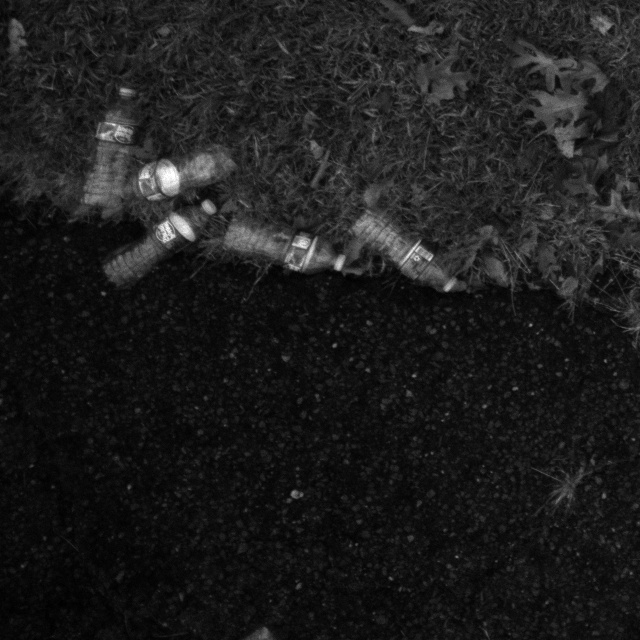bottle: (350, 193, 464, 301), (73, 84, 145, 226), (218, 207, 342, 282), (119, 141, 238, 205), (104, 212, 216, 277)
